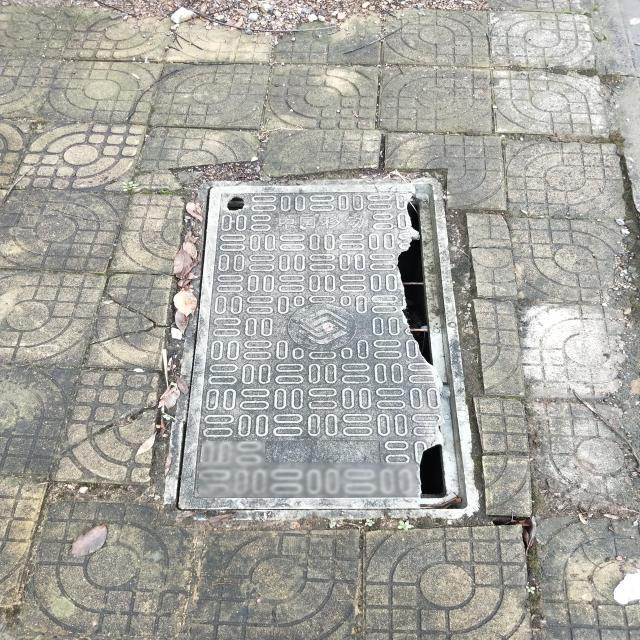Faulty: (177, 178, 482, 524)
